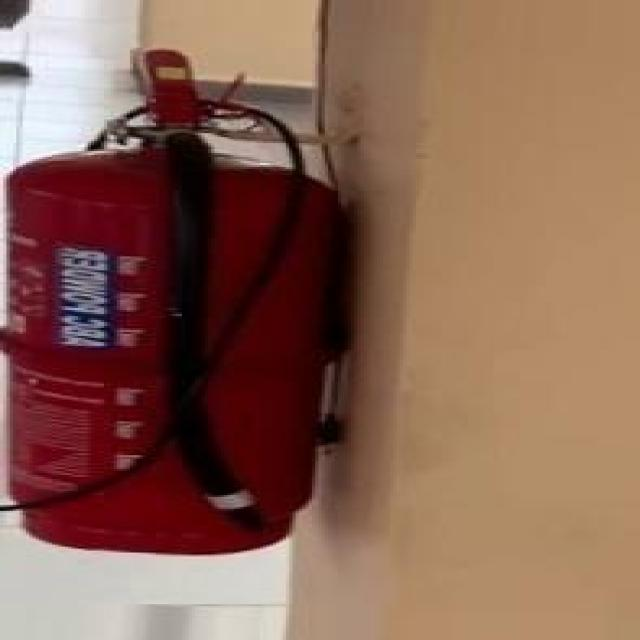fire_extinguisher: (0, 33, 374, 561)
